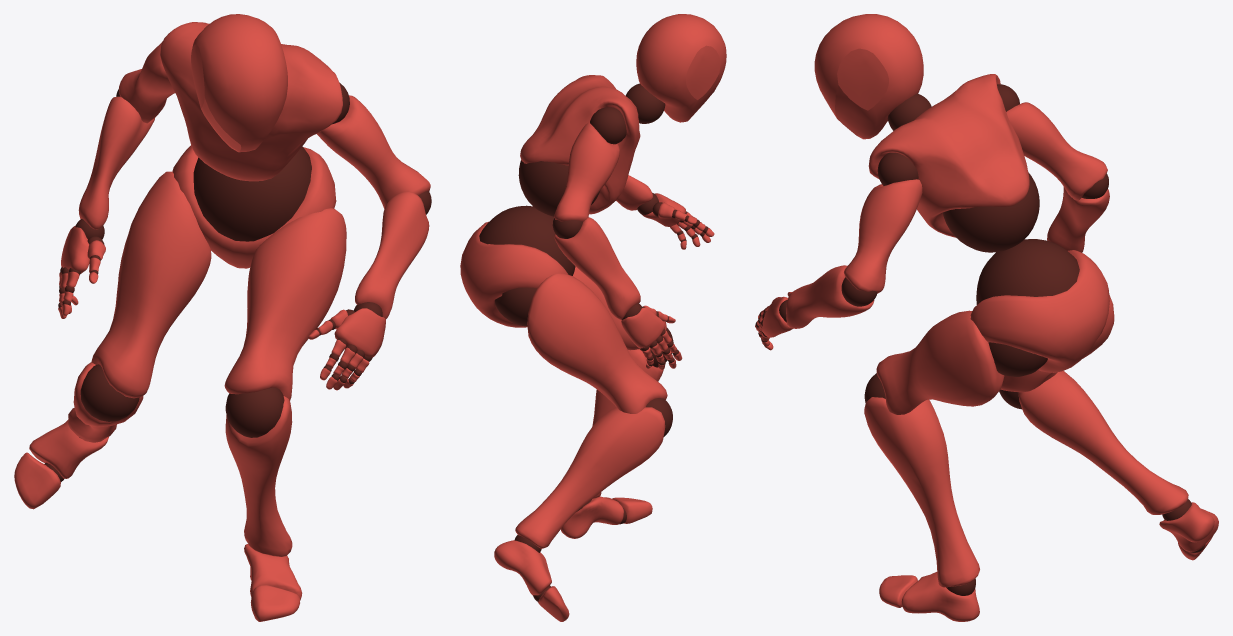
3 views of the same model, side by side, from view 1: azimuth 30°, elevation 25°; view 2: azimuth 150°, elevation 25°; view 3: azimuth 270°, elevation 25° (orthographic). The views are drawn at different scales.
Parts seen in each view (by area): view 1: Beta_Surface, Beta_Joints; view 2: Beta_Surface, Beta_Joints; view 3: Beta_Surface, Beta_Joints.
Part boxes in pixels (x1,y1,x2,y2): Beta_Surface: (14,14,430,621); Beta_Joints: (44,82,431,481); Beta_Surface: (460,14,726,621); Beta_Joints: (479,83,708,601); Beta_Surface: (755,14,1218,621); Beta_Joints: (755,84,1205,595).
Bounding box in the file's own units: 0.6364 × 1.39 × 1.03.
